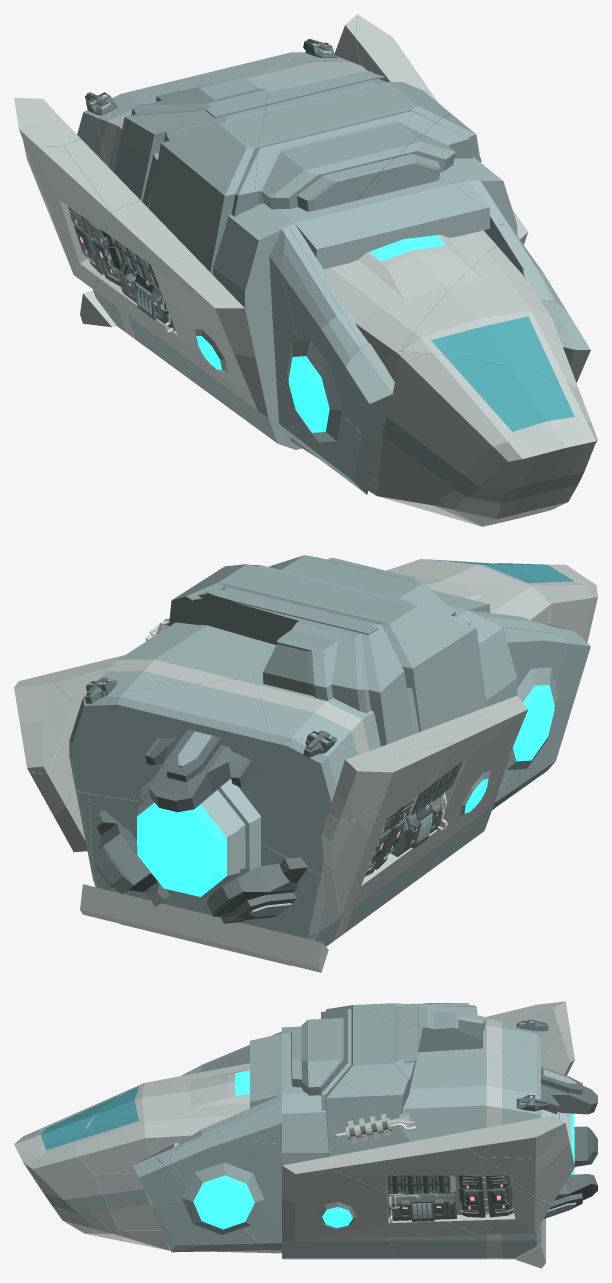
The model's file is ExplodedShip.fbx.
The picture shows the model from 3 angles, top to bottom: view 1: azimuth 30°, elevation 25°; view 2: azimuth 150°, elevation 25°; view 3: azimuth 270°, elevation 25°; orthographic projection. The views are drawn at different scales.
Visible parts, largest first — view 1: SpaceShip.001_cell, Elephant_Block.002_cell, Elephant_Block.002_cell.001, SpaceShip.006_cell.003, SpaceShip.001_cell.003, SpaceShip.001_cell.002, SpaceShip.015_cell.004, SpaceShip.015_cell, SpaceShip.015_cell.002, Elephant_Block.002_cell.004, SpaceShip.001_cell.012, SpaceShip.013 (+23 smaller); view 2: Elephant_Block.002_cell, Elephant_Block.002_cell.001, SpaceShip.001_cell.009, SpaceShip.002, SpaceShip.006_cell.004, SpaceShip.001_cell.015, SpaceShip.007, Stub_Wing.003, SpaceShip.015_cell.002, SpaceShip.006_cell.001, SpaceShip.015_cell, Stub_Wing.004 (+28 smaller); view 3: Elephant_Block.002_cell.001, SpaceShip.001_cell.015, SpaceShip.001_cell.003, SpaceShip.011_cell.001, SpaceShip.001_cell, SpaceShip.011_cell.005, SpaceShip.009, Elephant_Block.002_cell, SpaceShip.001_cell.014, Elephant_Block.002_cell.004, SpaceShip.001_cell.011, SpaceShip.017_cell.001 (+36 smaller).
Boxes of the visible parts, x1,y1,x2,y2 form: SpaceShip.001_cell: [373, 351, 597, 526]; Elephant_Block.002_cell: [114, 76, 268, 274]; Elephant_Block.002_cell.001: [255, 71, 450, 211]; SpaceShip.006_cell.003: [212, 196, 403, 449]; SpaceShip.001_cell.003: [401, 246, 578, 389]; SpaceShip.001_cell.002: [324, 230, 496, 363]; SpaceShip.015_cell.004: [169, 254, 268, 417]; SpaceShip.015_cell: [94, 200, 206, 372]; SpaceShip.015_cell.002: [28, 146, 111, 276]; Elephant_Block.002_cell.004: [357, 114, 480, 200]; SpaceShip.001_cell.012: [374, 177, 483, 238]; SpaceShip.013: [287, 339, 342, 442]; Elephant_Block.002_cell: [263, 603, 487, 746]; Elephant_Block.002_cell.001: [169, 558, 455, 645]; SpaceShip.001_cell.009: [69, 679, 241, 801]; SpaceShip.002: [137, 778, 260, 896]; SpaceShip.006_cell.004: [249, 739, 359, 875]; SpaceShip.001_cell.015: [81, 623, 276, 703]; SpaceShip.007: [80, 884, 328, 972]; Stub_Wing.003: [145, 730, 252, 812]; SpaceShip.015_cell.002: [332, 742, 455, 916]; SpaceShip.006_cell.001: [253, 663, 380, 754]; SpaceShip.015_cell: [357, 712, 496, 904]; Stub_Wing.004: [207, 857, 308, 923]; Elephant_Block.002_cell.001: [291, 1009, 422, 1119]; SpaceShip.001_cell.015: [405, 1055, 538, 1141]; SpaceShip.001_cell.003: [76, 1081, 227, 1174]; SpaceShip.011_cell.001: [282, 1156, 476, 1240]; SpaceShip.001_cell: [14, 1090, 127, 1241]; SpaceShip.011_cell.005: [331, 1130, 488, 1234]; SpaceShip.009: [182, 1162, 264, 1234]; Elephant_Block.002_cell: [321, 1003, 485, 1052]; SpaceShip.001_cell.014: [250, 1087, 410, 1165]; Elephant_Block.002_cell.004: [291, 1048, 381, 1127]; SpaceShip.001_cell.011: [389, 1223, 540, 1255]; SpaceShip.017_cell.001: [243, 1143, 281, 1250].
Size of the model in its own units: 393 by 272 by 732.
